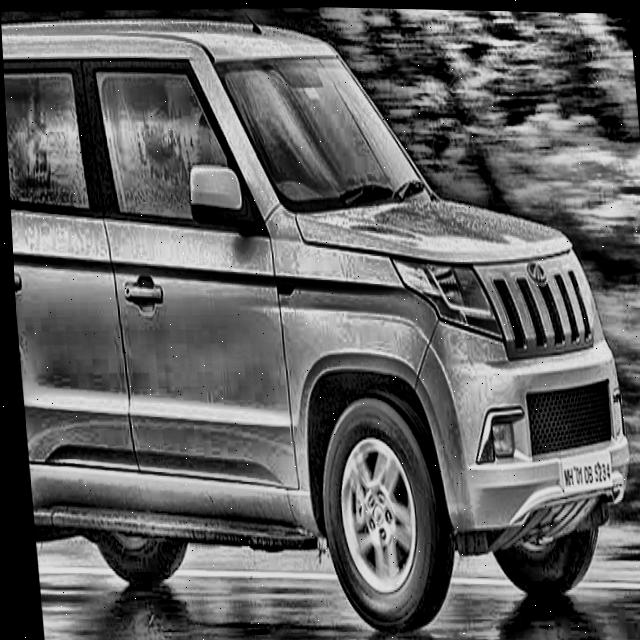light_vehicle: (0, 0, 633, 640)
